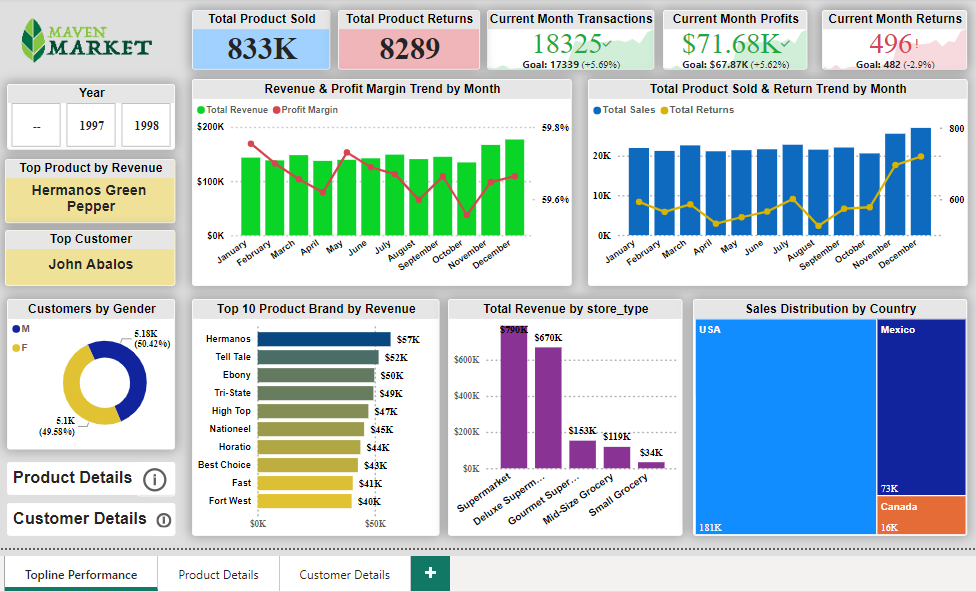

This screenshot's page, from the dashboard's own definition file:
{"tool":"powerbi","page":{"name":"Topline Performance","canvas":[1280,720],"ordinal":0},"visuals":[{"type":"image","box":[10.1,15.8,207.4,77.8],"z":0},{"type":"advancedSlicerVisual","fields":{"Values":["Calendar.Year"]},"box":[10.1,112.3,220.3,86.4],"z":1000},{"type":"kpi","title":"Current Month Transactions","fields":{"Indicator":["Transaction_Data.Total Transactions"],"Goal":["Transaction_Data.Last Month Transactions"],"TrendLine":["Calendar.Start of Month"]},"box":[639.4,15.8,218.9,77.8],"z":2000},{"type":"kpi","title":"Current Month Profits","fields":{"TrendLine":["Calendar.Start of Month"],"Indicator":["Transaction_Data.Total Profit"],"Goal":["Transaction_Data.Last Month Profit"]},"box":[869.8,15.8,188.6,77.8],"z":3000},{"type":"kpi","title":"Current Month Returns","fields":{"TrendLine":["Calendar.Start of Month"],"Indicator":["Return_Data.Total Returns"],"Goal":["Return_Data.Last Month Returns"]},"box":[1077.1,15.8,190.1,77.8],"z":4000},{"type":"card","title":"Total Product Sold","fields":{"Values":["Transaction_Data.Quantity Sold"]},"box":[252,15.8,181.4,77.8],"z":5000},{"type":"card","title":"Total Product Returns","fields":{"Values":["Return_Data.Quantity Returned"]},"box":[443.5,15.8,185.8,77.8],"z":6000},{"type":"lineStackedColumnComboChart","title":"Revenue & Profit Margin Trend by Month","fields":{"Y":["Transaction_Data.Total Revenue"],"Y2":["Transaction_Data.Profit Margin"],"Category":["Calendar.Start of Month.Variation.Date Hierarchy.Month"]},"box":[252,106.6,496.8,270.7],"z":7000},{"type":"lineStackedColumnComboChart","title":"Total Product Sold & Return Trend by Month","fields":{"Category":["Calendar.Start of Month.Variation.Date Hierarchy.Month"],"Y":["Transaction_Data.Total Transactions"],"Y2":["Return_Data.Total Returns"]},"box":[770.4,106.6,496.8,270.7],"z":8000},{"type":"donutChart","title":"Customers by Gender","fields":{"Y":["CountNonNull(Customers.customer_id)"],"Category":["Customers.gender"]},"box":[10.1,394.6,220.3,197.3],"z":9000},{"type":"clusteredBarChart","title":"Top 10 Product Brand by Revenue","fields":{"Category":["Products.product_brand"],"Y":["Transaction_Data.Total Revenue"]},"box":[252,394.6,324,309.6],"z":10000},{"type":"clusteredColumnChart","fields":{"Category":["Stores.store_type"],"Y":["Transaction_Data.Total Revenue"]},"box":[587.5,394.6,306.7,309.6],"z":11000},{"type":"treemap","title":"Sales Distribution by Country","fields":{"Group":["Stores.Country/Region","Stores.State or Province","Stores.City"],"Values":["Transaction_Data.Total Transactions"]},"box":[908.6,394.6,358.6,309.6],"z":12000},{"type":"textbox","box":[10.1,607.7,220.3,43.2],"z":13000},{"type":"textbox","box":[10.1,661,220.3,43.2],"z":14000},{"type":"actionButton","box":[180,607.7,50.4,44.6],"z":15000},{"type":"card","title":"Top Product by Revenue","fields":{"Values":["Min(Products.product_name)"]},"box":[7.2,210.2,223.2,83.5],"z":16000},{"type":"card","title":"Top Customer","fields":{"Values":["Min(Customers.full_name)"]},"box":[7.2,303.8,223.2,73.4],"z":17000},{"type":"actionButton","box":[198.7,661,31.7,43.2],"z":18000}]}

Visuals, with their boxes on the page's 1280x720 design canvas (x1, y1, x2, y2). These are canvas units, not pixel positions in the 976x592 screenshot, which may show the page scaled, cropped or inside an application window:
image: x1=10 y1=16 x2=218 y2=94
advancedSlicerVisual - Calendar.Year: x1=10 y1=112 x2=230 y2=199
"Current Month Transactions" kpi: x1=639 y1=16 x2=858 y2=94
"Current Month Profits" kpi: x1=870 y1=16 x2=1058 y2=94
"Current Month Returns" kpi: x1=1077 y1=16 x2=1267 y2=94
"Total Product Sold" card: x1=252 y1=16 x2=433 y2=94
"Total Product Returns" card: x1=444 y1=16 x2=629 y2=94
"Revenue & Profit Margin Trend by Month" lineStackedColumnComboChart: x1=252 y1=107 x2=749 y2=377
"Total Product Sold & Return Trend by Month" lineStackedColumnComboChart: x1=770 y1=107 x2=1267 y2=377
"Customers by Gender" donutChart: x1=10 y1=395 x2=230 y2=592
"Top 10 Product Brand by Revenue" clusteredBarChart: x1=252 y1=395 x2=576 y2=704
clusteredColumnChart - Stores.store_type x Transaction_Data.Total Revenue: x1=588 y1=395 x2=894 y2=704
"Sales Distribution by Country" treemap: x1=909 y1=395 x2=1267 y2=704
textbox: x1=10 y1=608 x2=230 y2=651
textbox: x1=10 y1=661 x2=230 y2=704
actionButton: x1=180 y1=608 x2=230 y2=652
"Top Product by Revenue" card: x1=7 y1=210 x2=230 y2=294
"Top Customer" card: x1=7 y1=304 x2=230 y2=377
actionButton: x1=199 y1=661 x2=230 y2=704
